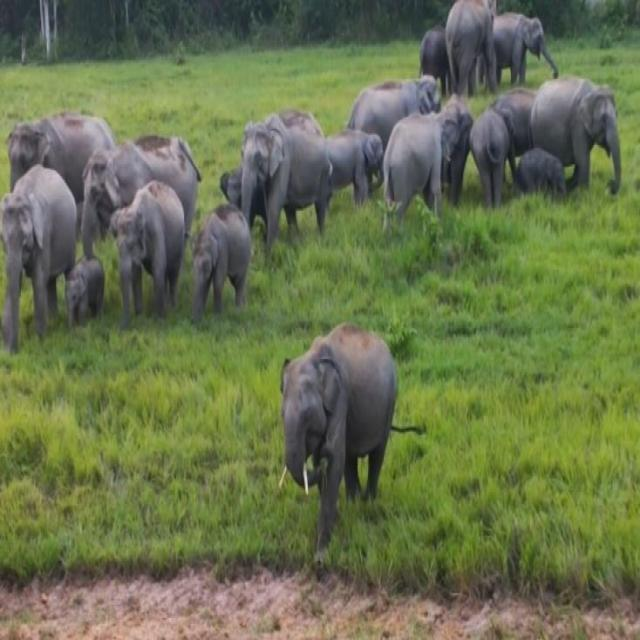Elephant: (275, 324, 411, 532), (517, 82, 631, 202), (78, 137, 200, 249), (240, 116, 338, 251), (0, 174, 80, 338), (381, 109, 474, 235), (1, 112, 118, 190), (113, 194, 185, 319), (190, 205, 256, 319), (346, 75, 445, 137), (466, 102, 522, 202), (322, 124, 383, 212), (444, 1, 498, 92), (492, 14, 562, 81), (62, 259, 110, 326), (420, 26, 446, 78), (220, 163, 246, 210)
